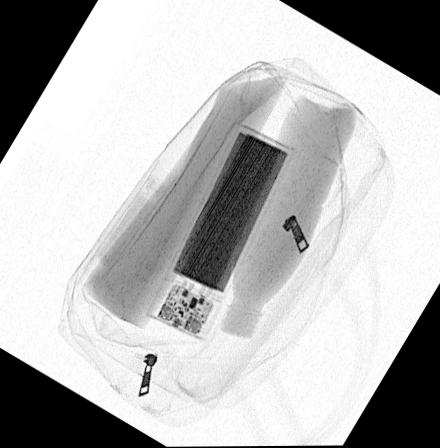Powerbank: (143, 122, 293, 341)
